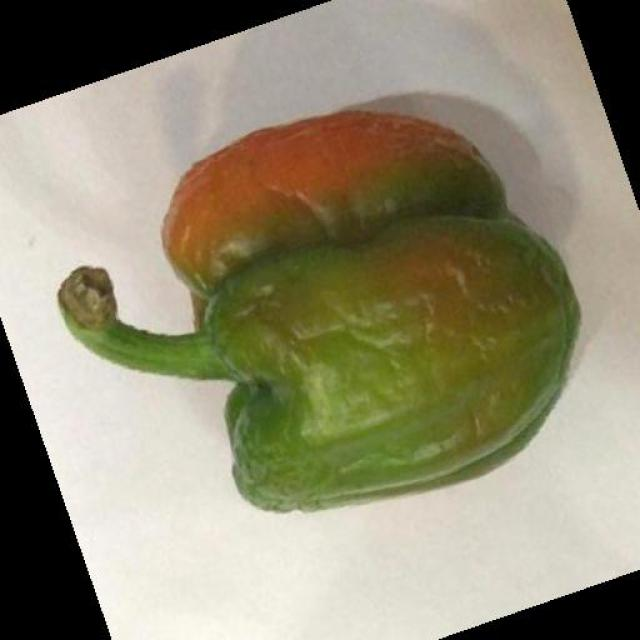Stale_Capsicum: (120, 138, 610, 527)
